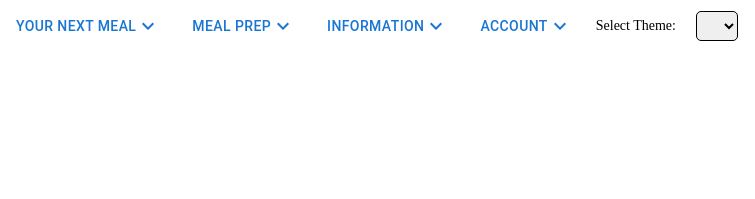
shows Info links in Navbar
Click the button "Information" at [388, 26], box [319,8,456,44]
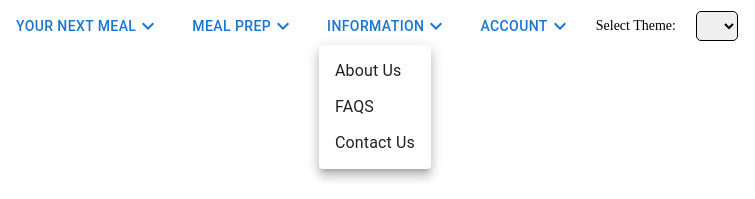
Now the menu item "About Us" is shown, box [335,61,401,80]
Now the menu item "Contact Us" is shown, box [335,133,415,152]
Now the menu item "FAQS" is shown, box [335,97,374,116]
